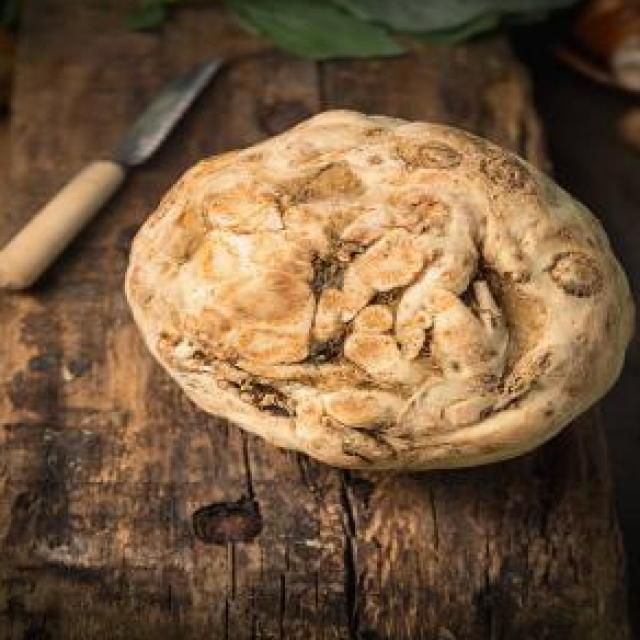knife: (0, 50, 226, 298)
